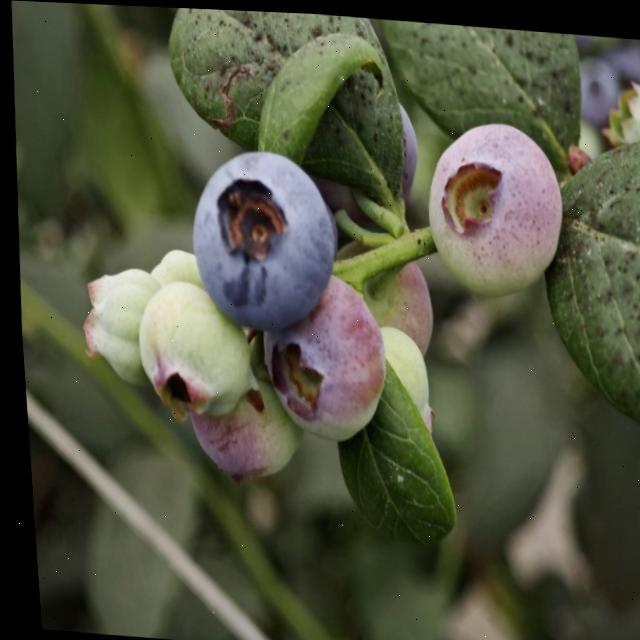RipeBlueBerry: (179, 140, 339, 334)
Semi-RipeBlueBerry: (413, 109, 568, 299), (248, 264, 388, 445)
UnripeBlueBerry: (126, 274, 250, 422)
